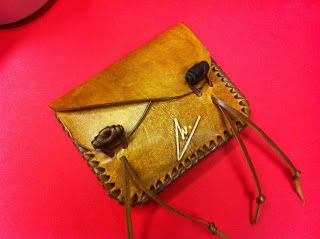cuero: (48, 22, 250, 206)
